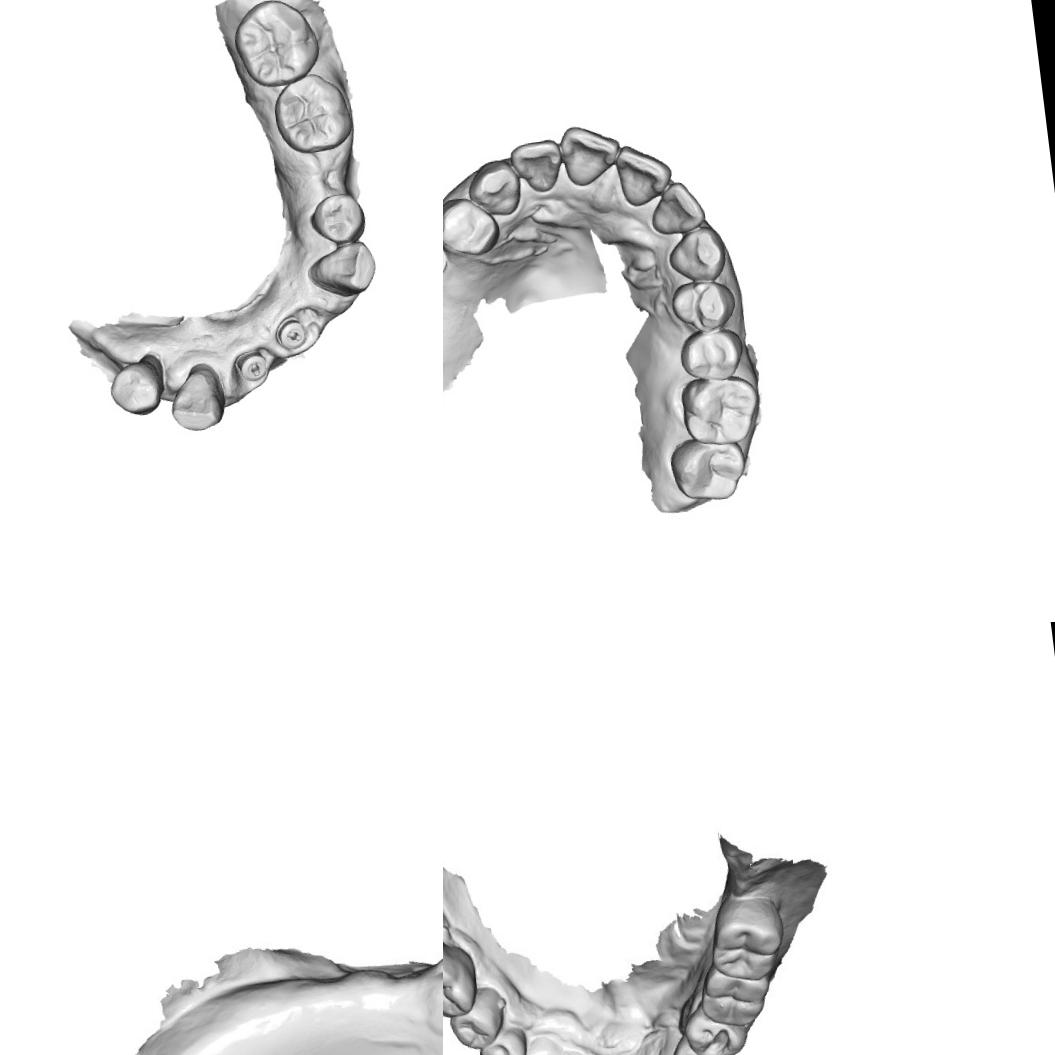canine: (306, 237, 380, 302), (164, 364, 229, 435), (462, 154, 524, 222), (664, 222, 729, 286), (503, 1031, 570, 1055), (651, 1035, 709, 1055)
implant_minus: (234, 347, 270, 386), (273, 316, 310, 352), (443, 239, 452, 278)
incisor: (555, 117, 630, 191), (609, 138, 676, 210), (505, 128, 567, 199), (649, 176, 710, 235)
molar: (701, 890, 790, 987), (228, 0, 321, 92), (268, 68, 356, 158), (678, 372, 768, 448), (665, 433, 750, 505), (695, 958, 771, 1030), (443, 940, 482, 1022)
premolar: (444, 982, 510, 1054), (667, 272, 739, 334), (675, 326, 753, 382), (104, 357, 168, 421), (443, 190, 498, 262), (306, 189, 371, 248), (680, 1001, 751, 1055), (666, 1030, 736, 1055), (475, 1024, 531, 1055)
